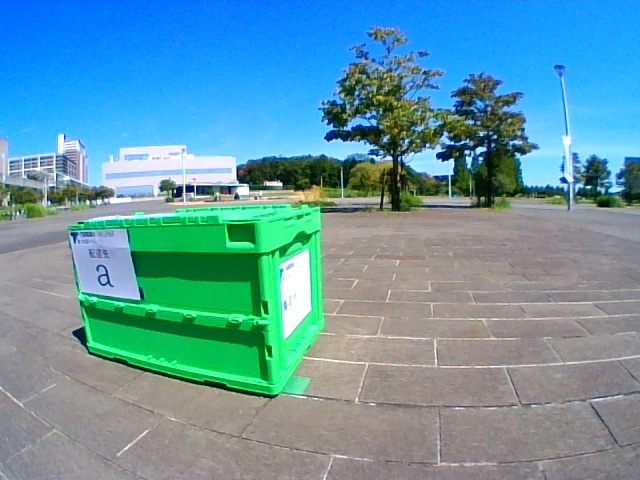green_box: (68, 204, 324, 395)
tag_a: (85, 248, 126, 292)
